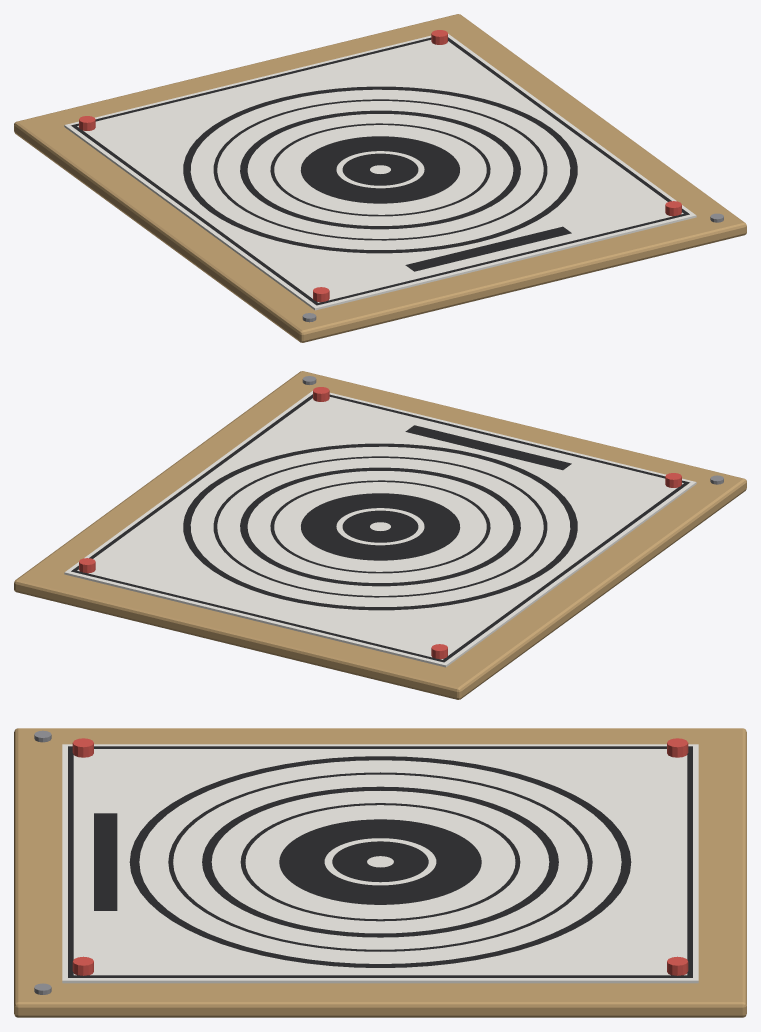
Rendered from wall.obj.
The picture shows the model from 3 angles, top to bottom: view 1: azimuth 30°, elevation 25°; view 2: azimuth 150°, elevation 25°; view 3: azimuth 270°, elevation 25°; orthographic projection. The views are drawn at different scales.
Bounding box in the file's own units: 0.68 × 0.033 × 0.76.
